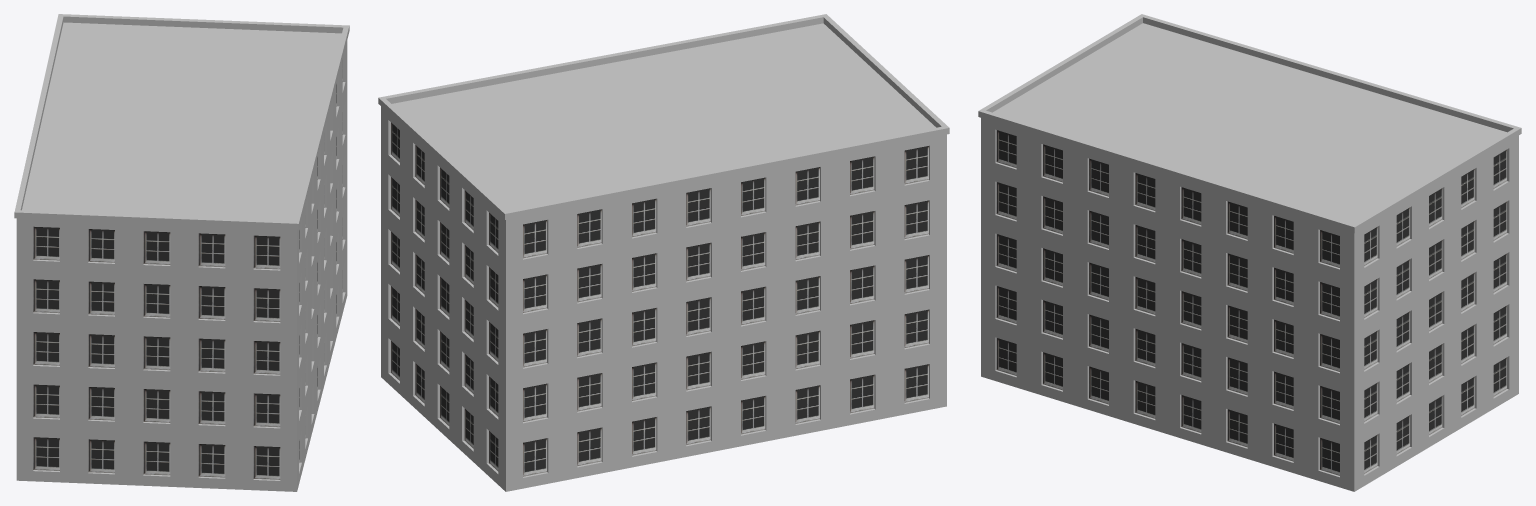
Rendered from Building_098.fbx.
3 views of the same model, side by side, from view 1: azimuth 30°, elevation 25°; view 2: azimuth 150°, elevation 25°; view 3: azimuth 270°, elevation 25° (orthographic). The views are drawn at different scales.
Visible parts, largest first — view 1: Brick06, Roofpanels, Window09WhiteTiling_25EmissionOff, Window09WhiteTiling_25EmissionOn; view 2: Brick06, Roofpanels, Window09WhiteTiling_25EmissionOff, Window09WhiteTiling_25EmissionOn; view 3: Brick06, Roofpanels, Window09WhiteTiling_25EmissionOff, Window09WhiteTiling_25EmissionOn.
Boxes of the visible parts, left/top/right/bottom form: Brick06: left=14, top=14, right=349, bottom=491; Roofpanels: left=22, top=22, right=341, bottom=221; Window09WhiteTiling_25EmissionOff: left=33, top=59, right=342, bottom=479; Window09WhiteTiling_25EmissionOn: left=88, top=111, right=342, bottom=473; Brick06: left=378, top=14, right=949, bottom=491; Roofpanels: left=392, top=23, right=935, bottom=210; Window09WhiteTiling_25EmissionOff: left=391, top=122, right=928, bottom=476; Window09WhiteTiling_25EmissionOn: left=415, top=146, right=928, bottom=471; Brick06: left=978, top=14, right=1521, bottom=491; Roofpanels: left=993, top=23, right=1506, bottom=223; Window09WhiteTiling_25EmissionOff: left=996, top=130, right=1506, bottom=475; Window09WhiteTiling_25EmissionOn: left=1043, top=173, right=1506, bottom=418.
Bounding box in the file's own units: 1956 × 1135 × 2104.
